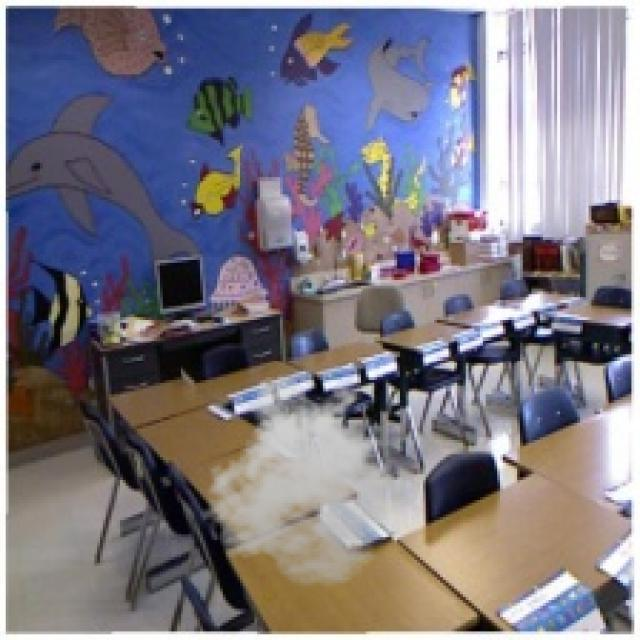Smoke: (200, 374, 420, 589)
